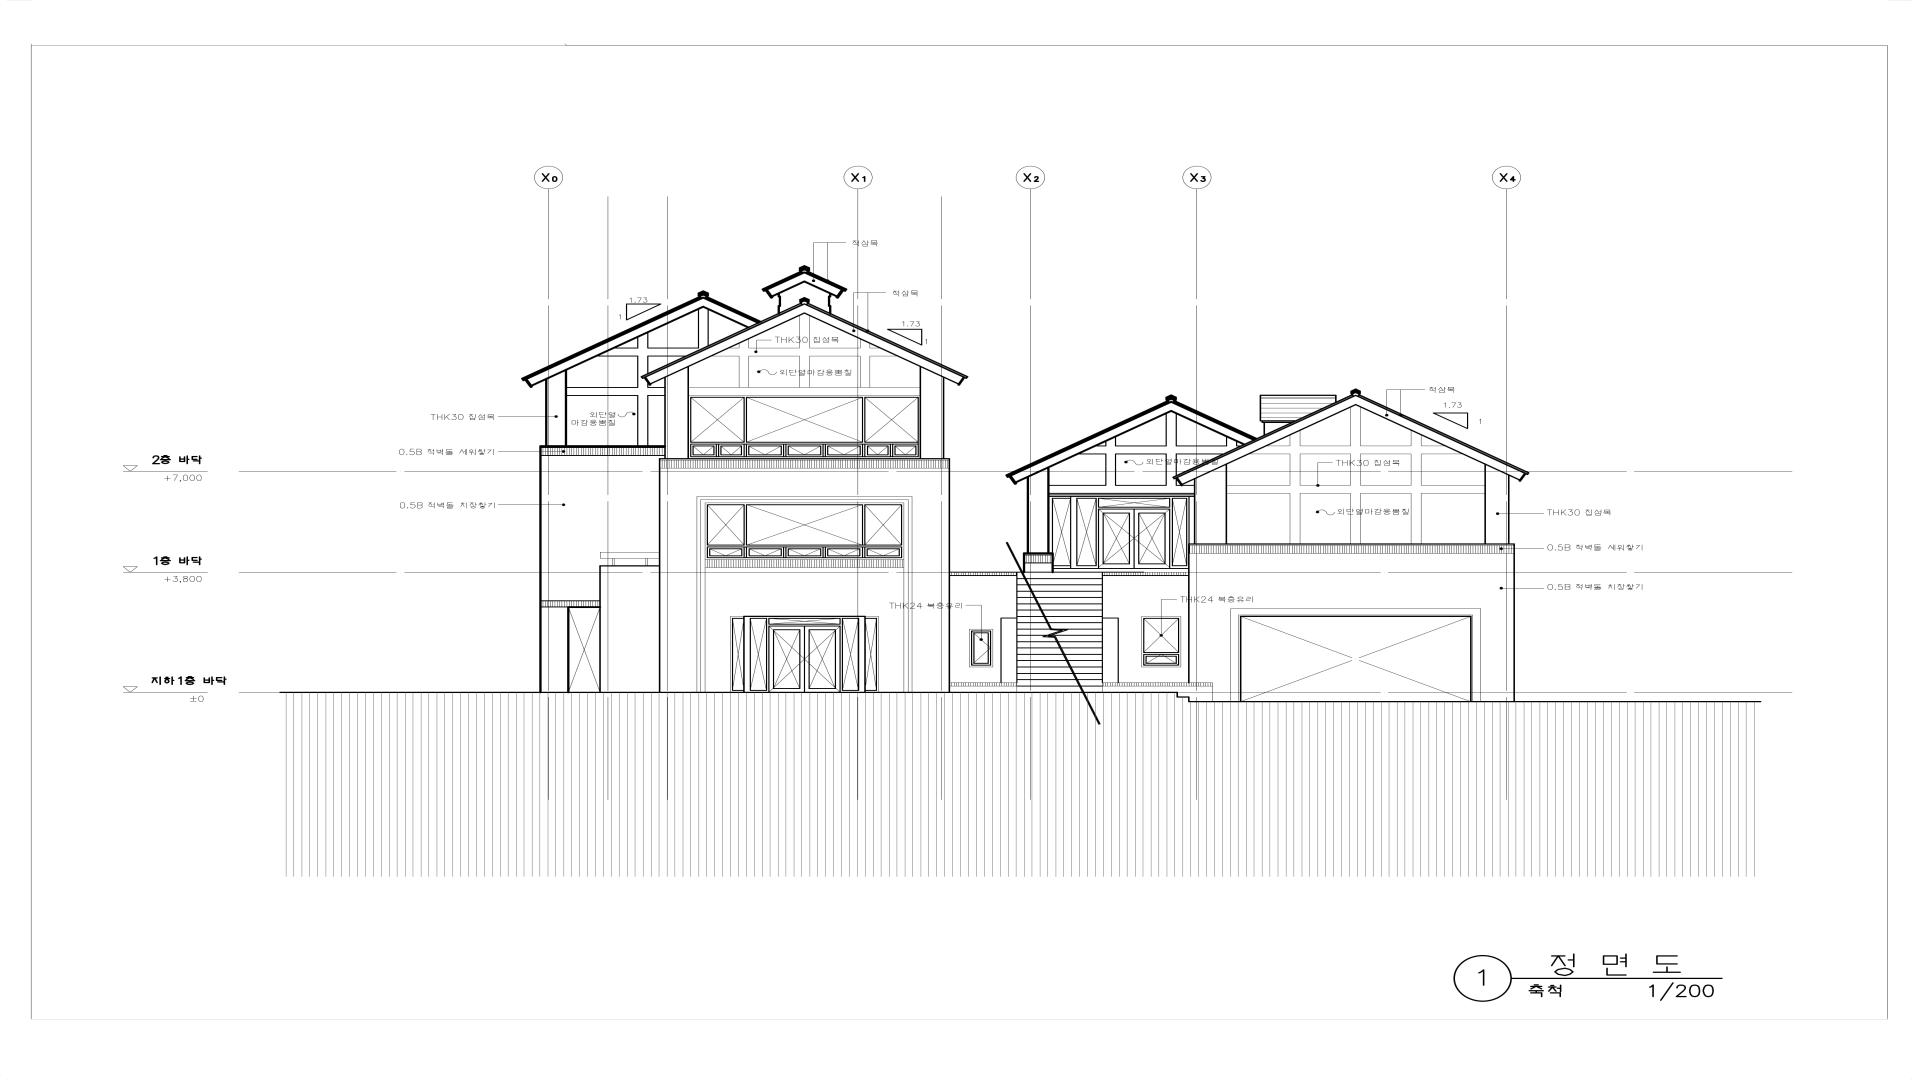door: (1238, 615, 1473, 702), (731, 616, 880, 692), (1050, 496, 1193, 568), (567, 607, 599, 692)
wall: (522, 265, 1528, 703)
window: (746, 397, 864, 443), (746, 504, 864, 546), (690, 397, 745, 443), (864, 397, 919, 443), (1142, 616, 1182, 667), (707, 504, 745, 546), (864, 504, 902, 546), (971, 630, 992, 666), (745, 443, 785, 458), (785, 443, 823, 458), (824, 443, 862, 458), (824, 546, 864, 558), (707, 546, 745, 558), (746, 546, 785, 558), (786, 546, 824, 558), (864, 546, 902, 558), (690, 443, 717, 458), (717, 443, 745, 458), (891, 443, 919, 458), (864, 443, 891, 458)
